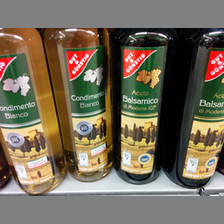vinegar: (44, 30, 115, 182), (1, 29, 66, 195), (163, 29, 224, 187), (116, 28, 173, 185)
